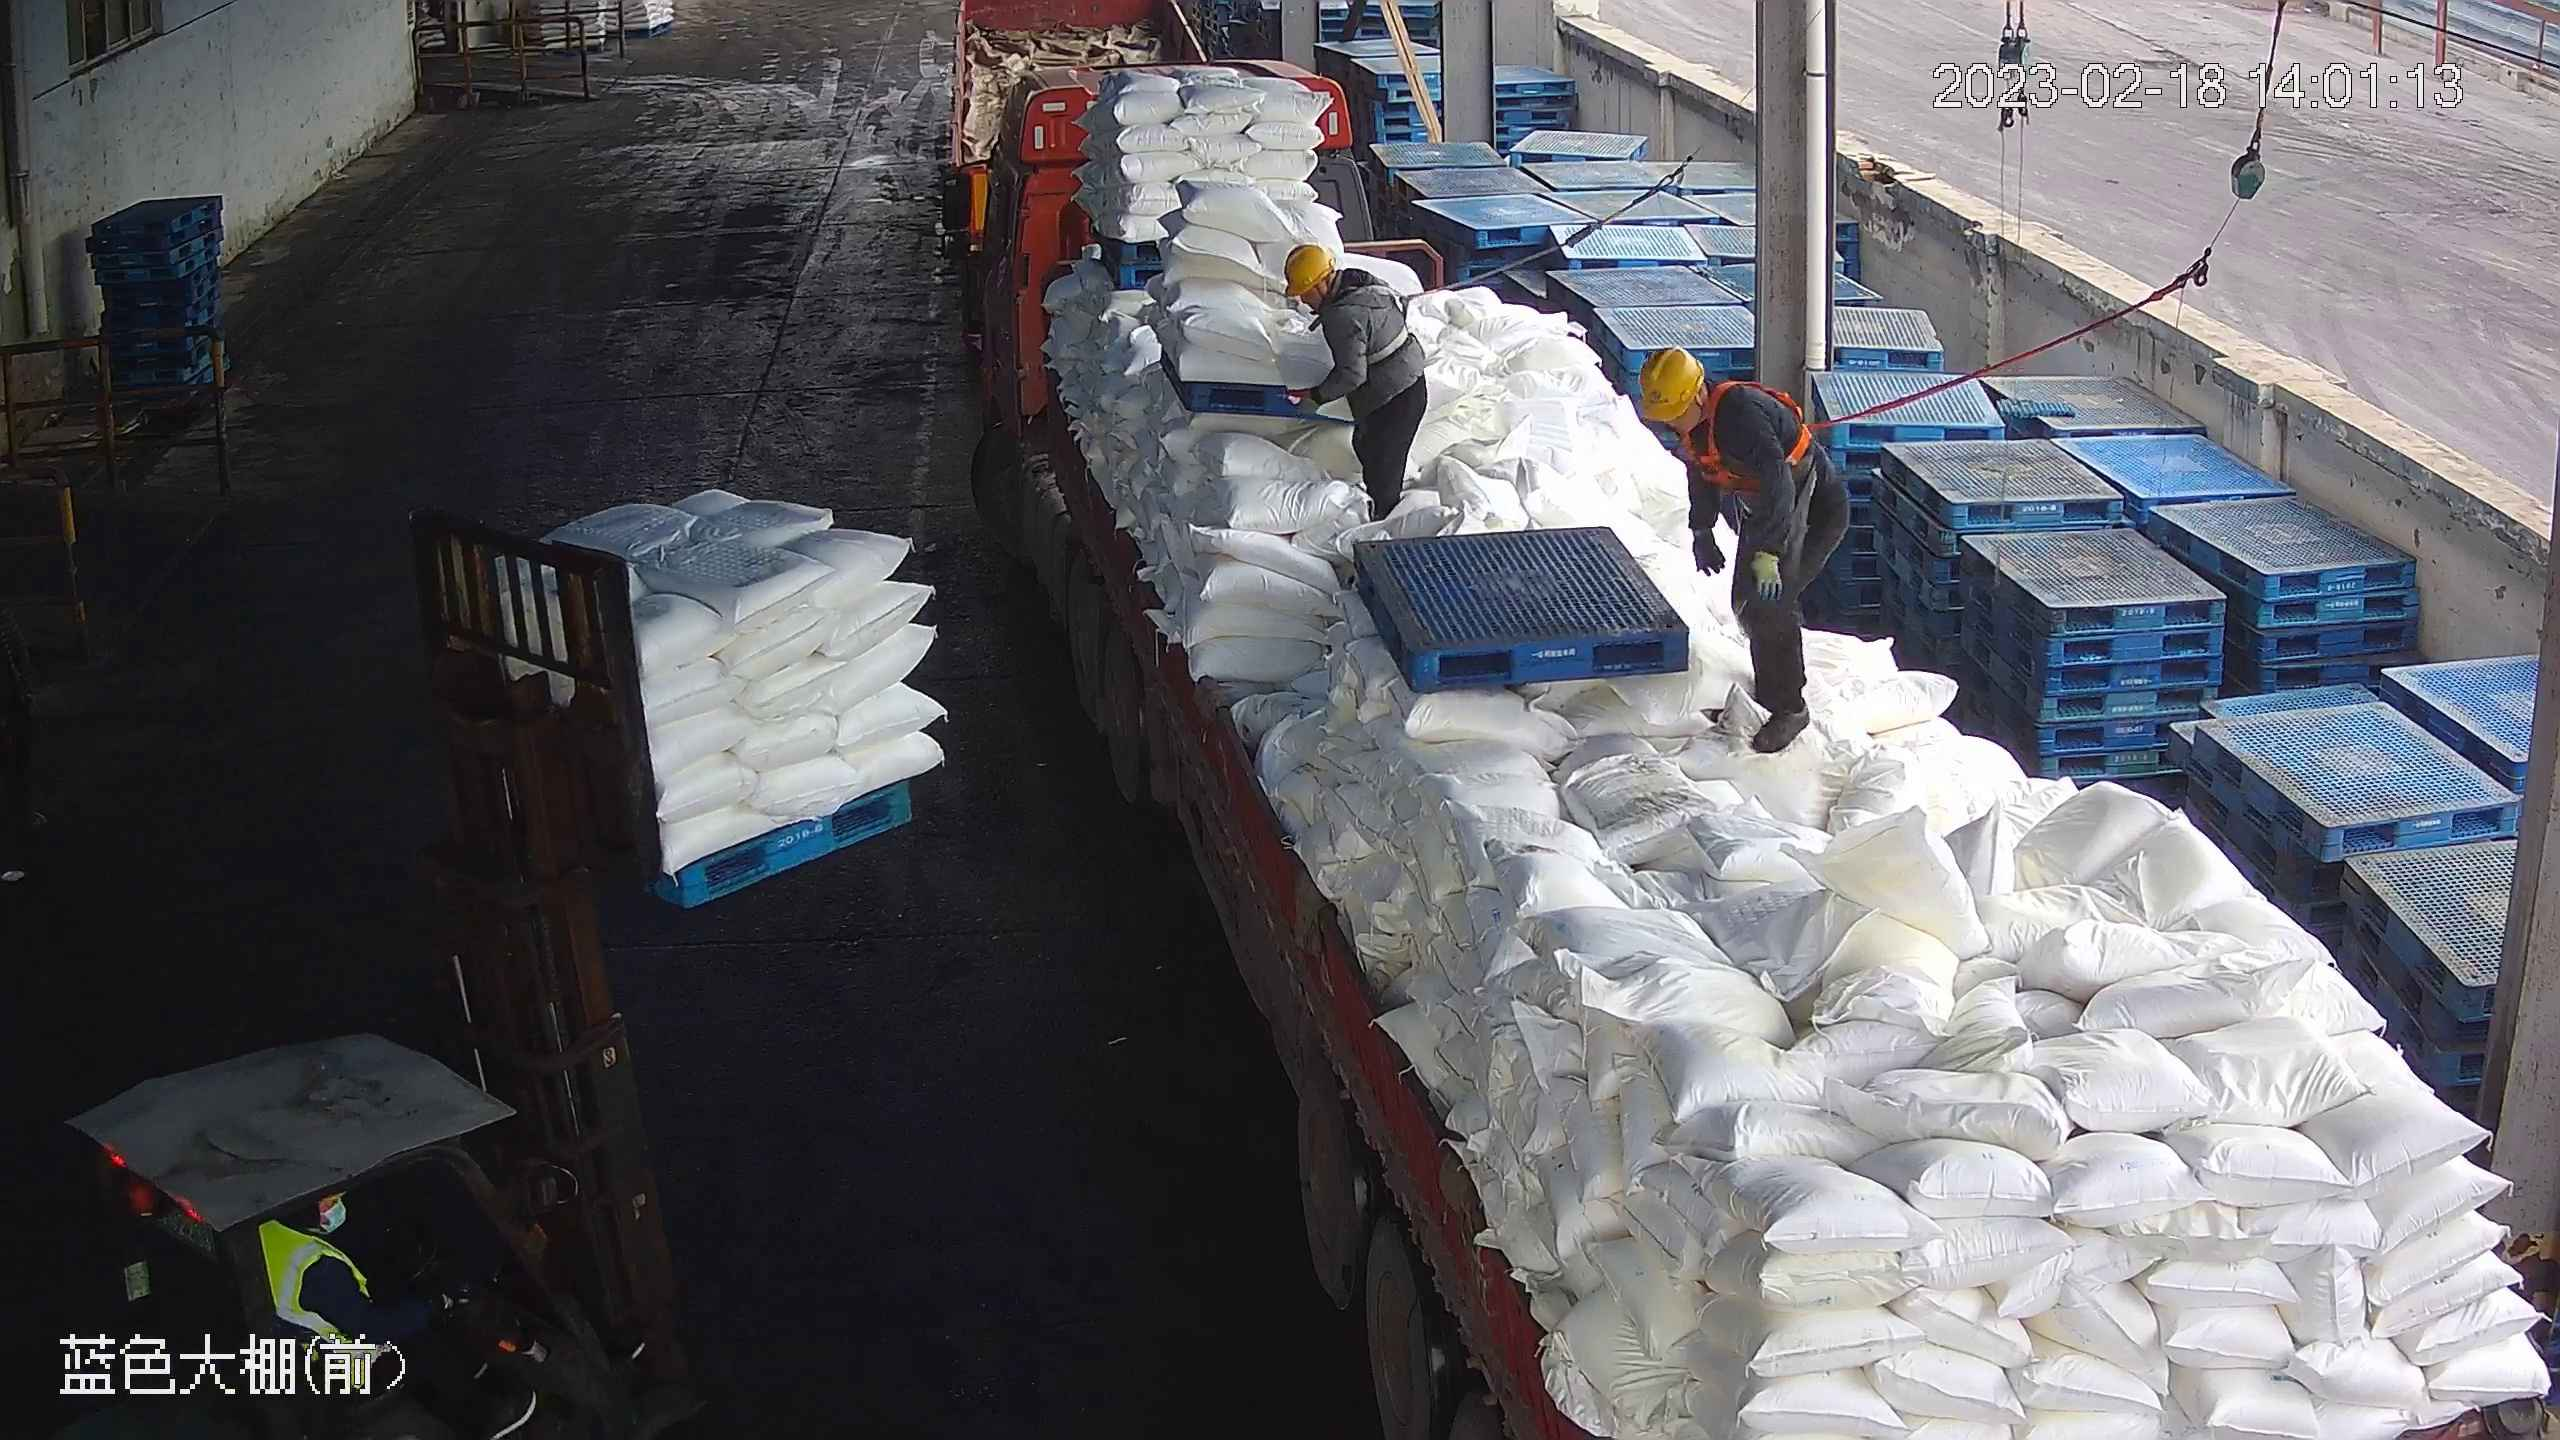belt: (1688, 377, 1821, 490), (1322, 268, 1425, 364)
head: (1634, 346, 1780, 457), (1280, 240, 1406, 329)
helmet: (1634, 345, 1705, 421), (1281, 241, 1336, 298)
people: (1633, 344, 1851, 757), (1282, 239, 1432, 524)
truck: (939, 55, 2556, 1439)
